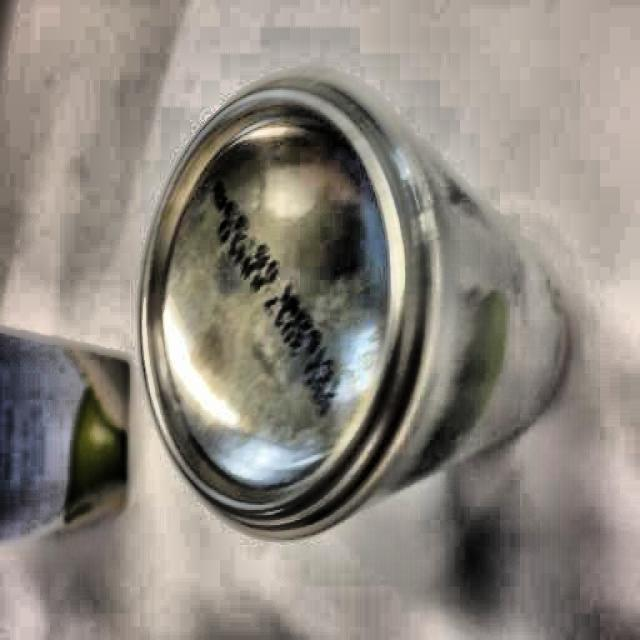metal: (133, 67, 585, 549)
